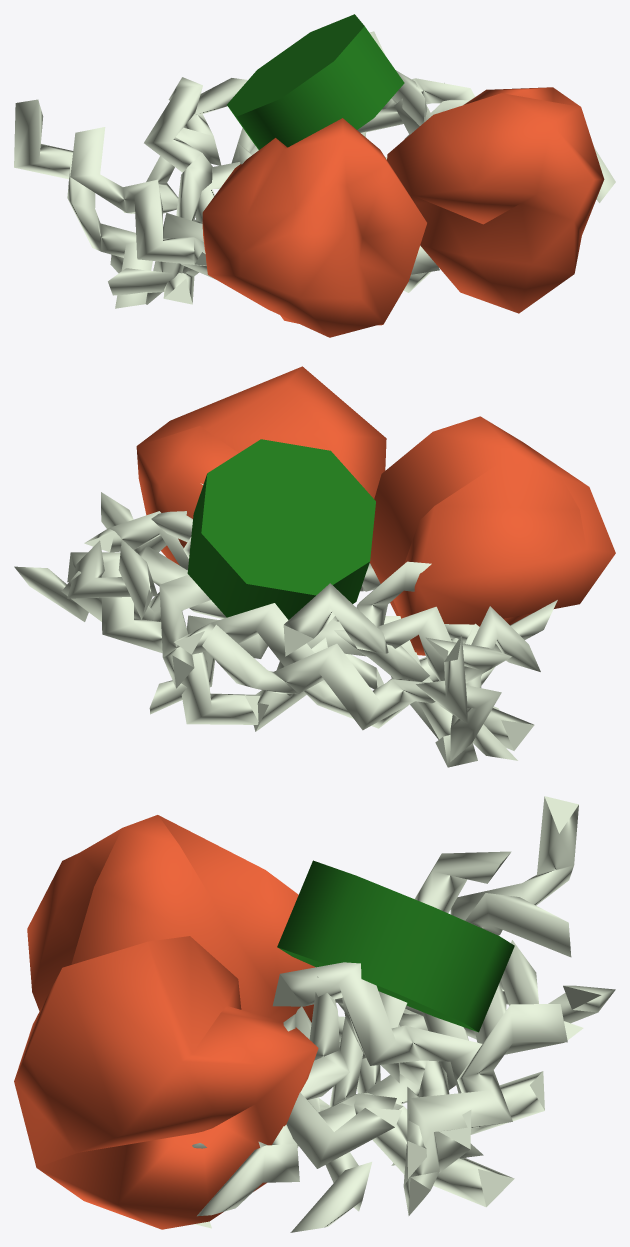
Rendered from SM_SauteTruffe.FBX.
3 views of the same model, one above another, from view 1: azimuth 30°, elevation 25°; view 2: azimuth 150°, elevation 25°; view 3: azimuth 270°, elevation 25° (orthographic). The views are drawn at different scales.
Parts seen in each view (by area): view 1: SM_SauteTruffe; view 2: SM_SauteTruffe; view 3: SM_SauteTruffe.
Part boxes in pixels (bbox=[...]): SM_SauteTruffe: bbox=[14, 14, 615, 337]; SM_SauteTruffe: bbox=[14, 366, 615, 767]; SM_SauteTruffe: bbox=[14, 796, 615, 1232].
Size of the model in its own units: 19.54 by 9.56 by 16.65.
